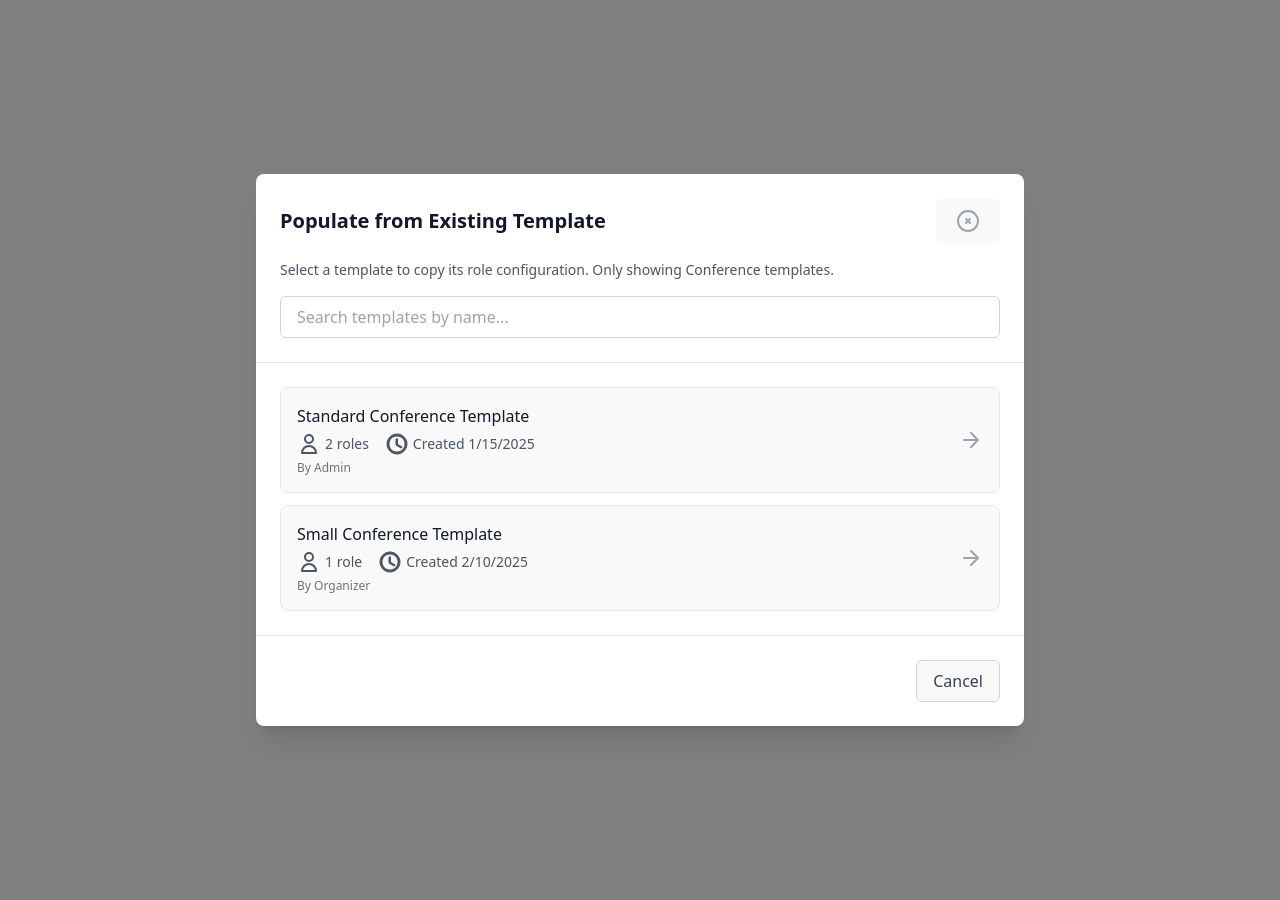
it: PopulateFromTemplateModal › handles search functionality
Expected: the heading "Standard Conference Template" is shown, [297,405,529,427]
In the field with placeholder "Search templates by name...": (640, 317) [280,296,1000,338], type "Small"
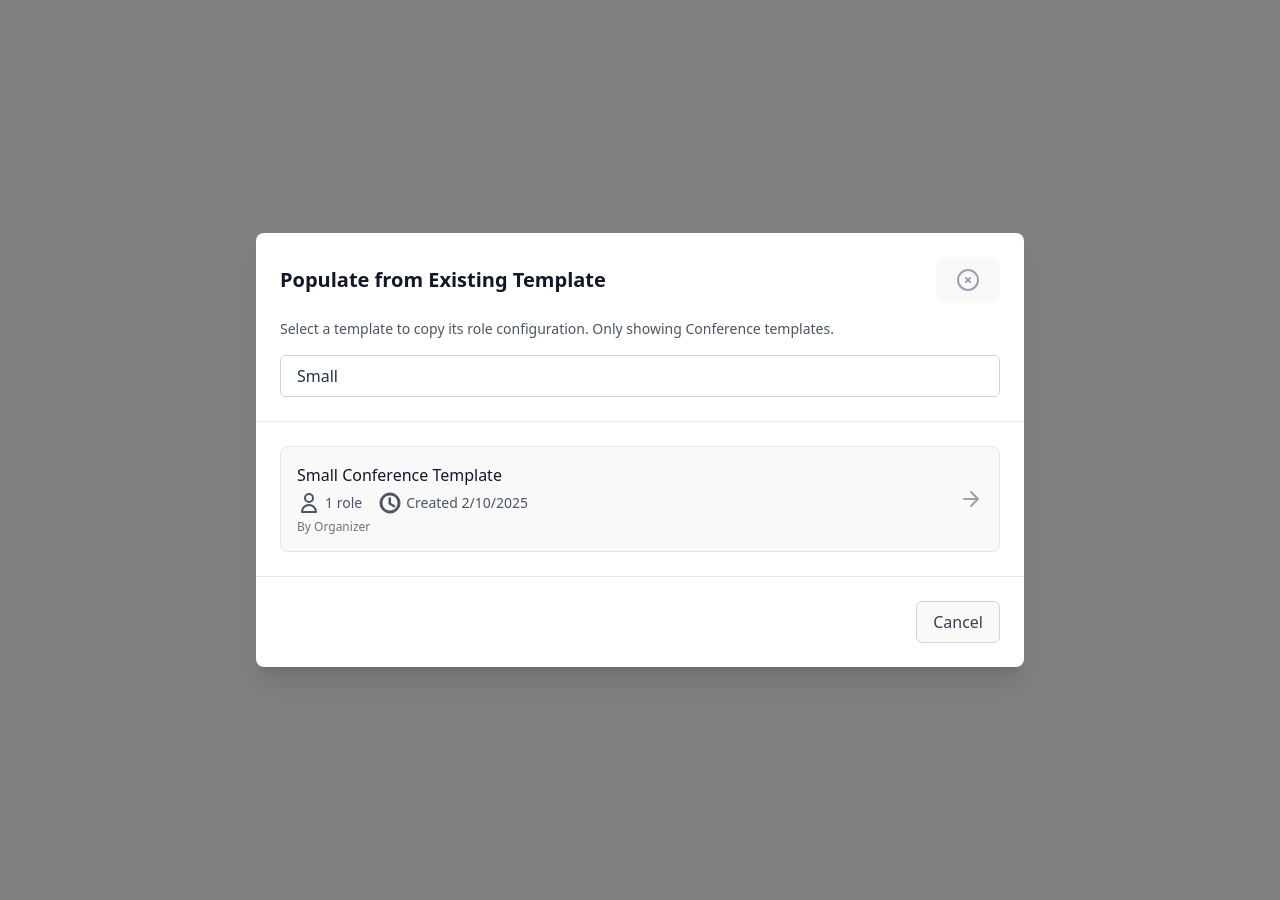
Expected: the heading "Small Conference Template" is shown, [297,464,502,486]
Result: the button "Standard Conference Template" is gone
